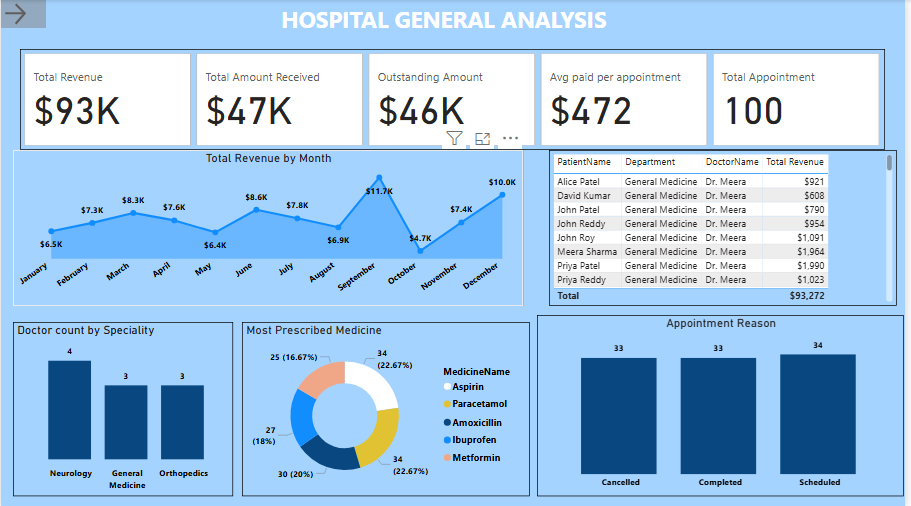

This screenshot's page, from the dashboard's own definition file:
{"tool":"powerbi","page":{"name":"general","canvas":[1280,720],"ordinal":0},"visuals":[{"type":"textbox","box":[269.3,0,775.3,59.5],"z":0},{"type":"cardVisual","fields":{"Data":["Appointments.Total Revenue","Appointments.Total Amount Received","Appointments.Outstanding Amount","Appointments.Avg paid per appointment","Appointments.Total Appointment"]},"box":[26.9,69.4,1226,143.1],"z":1000},{"type":"lineChart","fields":{"Category":["Billing.Month"],"Y":["Appointments.Total Revenue"]},"box":[17,212.6,722.8,221.1],"z":2000},{"type":"tableEx","fields":{"Values":["Patients.PatientName","Doctors.Department","Doctors.DoctorName","Appointments.Total Revenue"]},"box":[776.7,212.6,493.2,221.1],"z":3000},{"type":"donutChart","title":"Most Prescribed Medicine","fields":{"Category":["Prescriptions.MedicineName"],"Y":["CountNonNull(Prescriptions.PrescriptionID)"]},"box":[341.6,456.4,408.2,246.6],"z":4000},{"type":"columnChart","title":"Appointment Reason","fields":{"Category":["Appointments.Status"],"Y":["CountNonNull(Appointments.AppointmentID)"]},"box":[759.7,446.5,520.2,256.5],"z":5000},{"type":"actionButton","box":[0,0,63.8,39.7],"z":7000},{"type":"columnChart","title":"Doctor count by  Speciality","fields":{"Y":["CountNonNull(Doctors.DoctorID)"],"Category":["Doctors.Department"]},"box":[17,456.4,311.8,246.6],"z":9000}]}

Visuals, with their boxes in screenshot pixels (x1, y1, x2, y2), scaled from the page's 1280x720 canvas onto the 911x506 screenshot:
textbox: rect(192, 0, 743, 42)
cardVisual - Appointments.Total Revenue x Appointments.Total Amount Received: rect(19, 49, 892, 149)
lineChart - Billing.Month x Appointments.Total Revenue: rect(12, 149, 527, 305)
tableEx - Patients.PatientName x Doctors.Department: rect(553, 149, 904, 305)
"Most Prescribed Medicine" donutChart: rect(243, 321, 534, 494)
"Appointment Reason" columnChart: rect(541, 314, 910, 494)
actionButton: rect(0, 0, 45, 28)
"Doctor count by  Speciality" columnChart: rect(12, 321, 234, 494)
